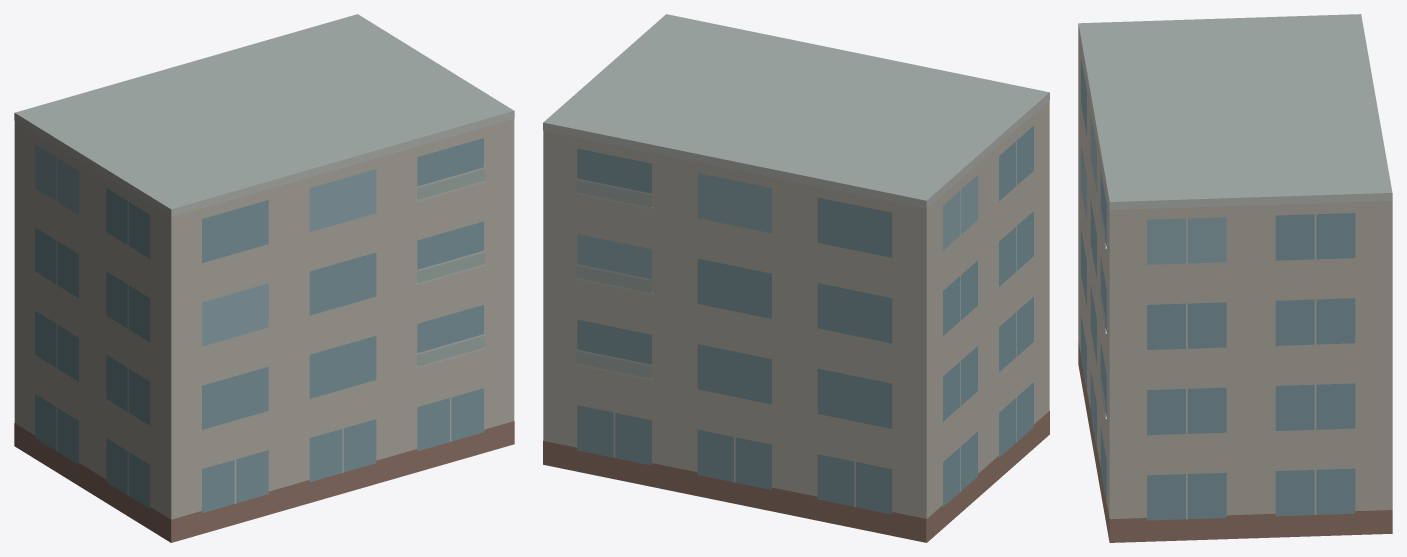
Rendered from survey-upis-32528008.glb.
The picture shows the model from 3 angles, left to right: view 1: azimuth 30°, elevation 25°; view 2: azimuth 150°, elevation 25°; view 3: azimuth 270°, elevation 25°; orthographic projection. The views are drawn at different scales.
Visible parts, largest first — view 1: survey-upis-32528008.tmp; view 2: survey-upis-32528008.tmp; view 3: survey-upis-32528008.tmp.
Boxes of the visible parts, x1,y1,x2,y2 form: survey-upis-32528008.tmp: (14, 14, 514, 542); survey-upis-32528008.tmp: (543, 14, 1049, 542); survey-upis-32528008.tmp: (1078, 14, 1392, 542).
Size of the model in its own units: 12.31 by 10.4 by 8.7.
